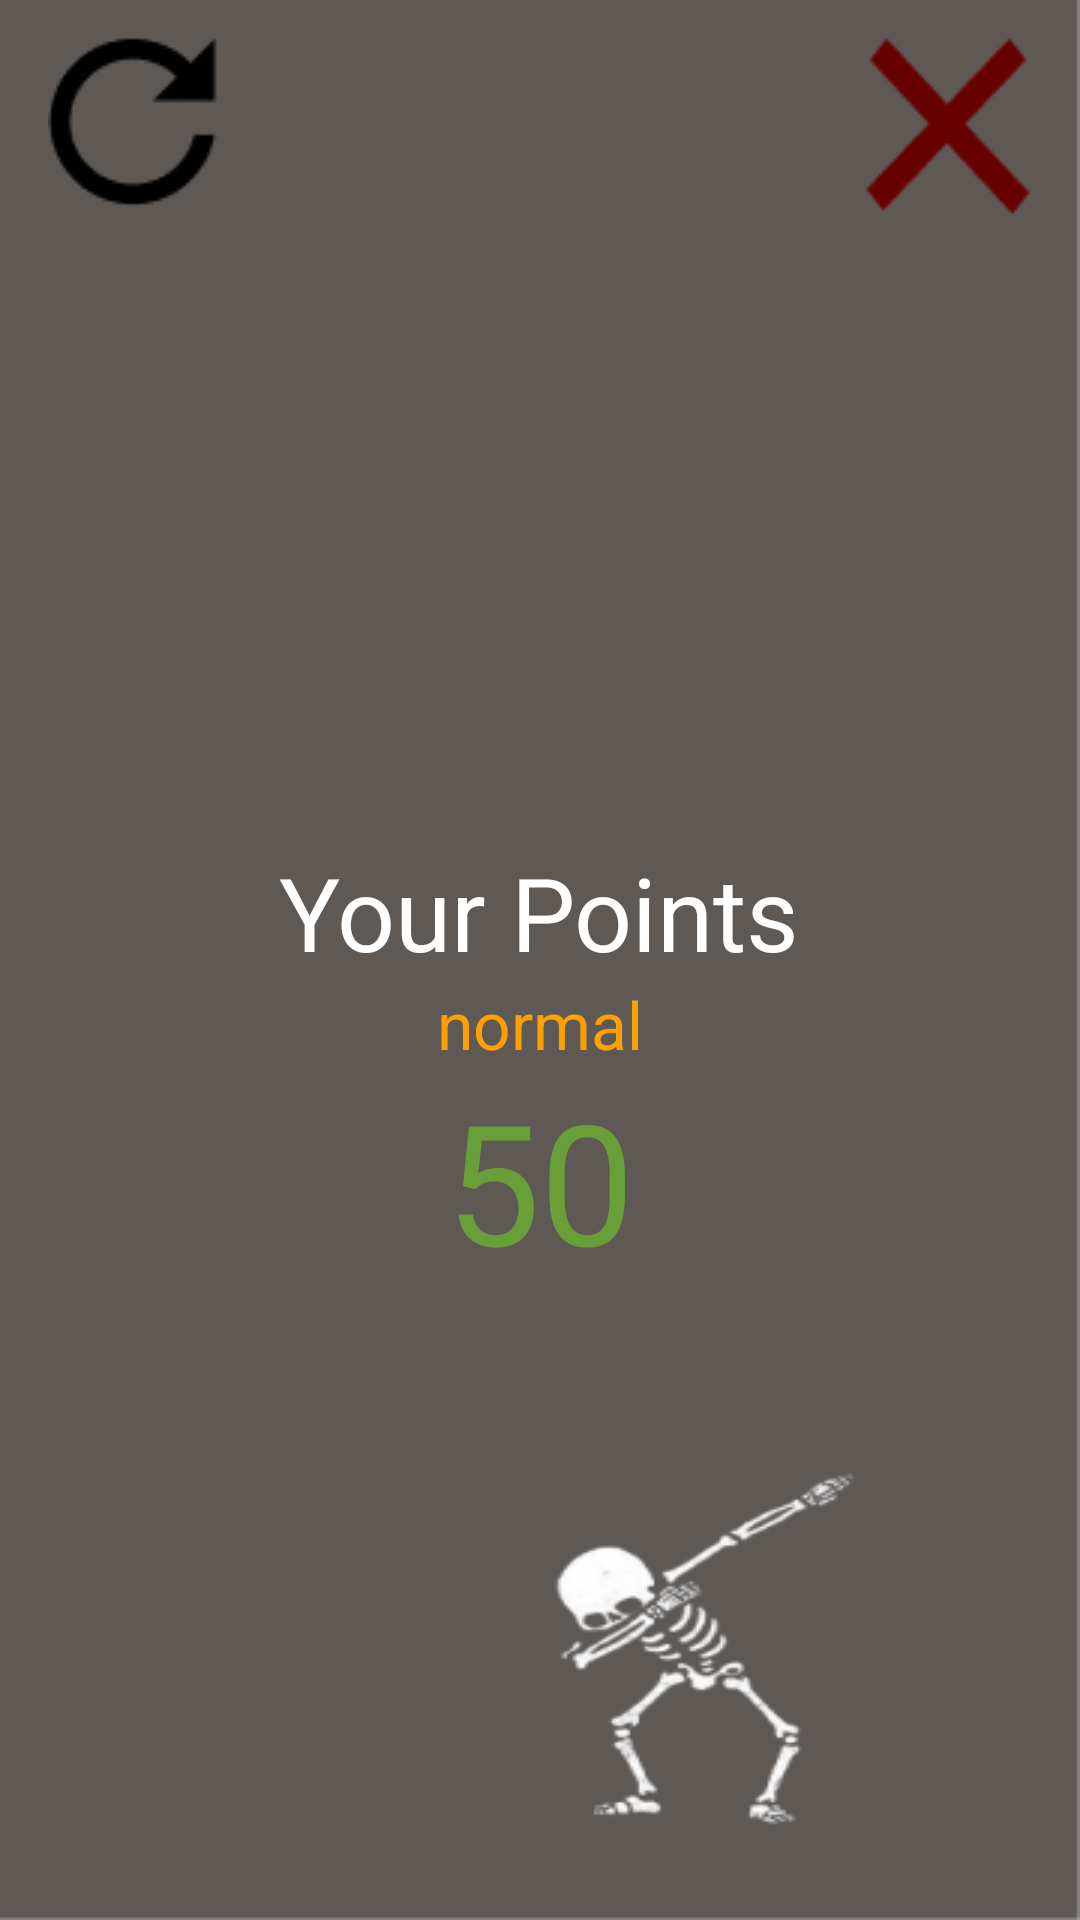

Locate icon controls on the screen. Image size 1080w x 1920h, boxes as (x1, y1, x2, y2).
close game: (867, 39, 1030, 214)
restart game: (48, 38, 216, 205)
